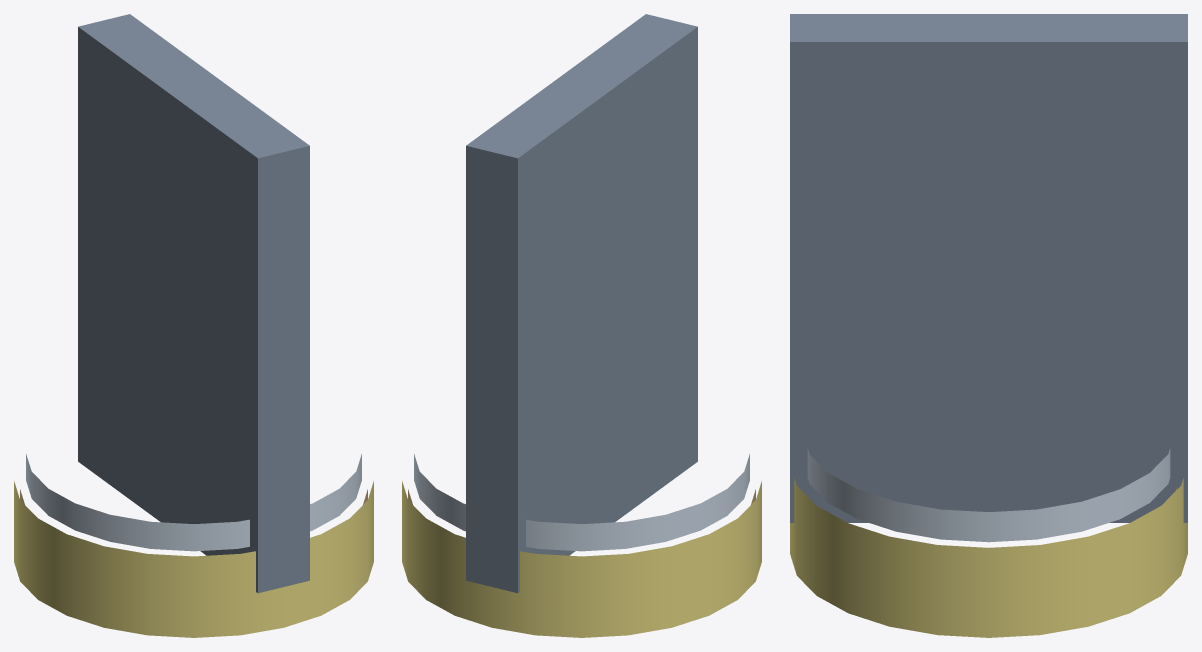
The model's file is soil_consolidation_oedometer_settlement.glb.
The picture shows the model from 3 angles, left to right: view 1: azimuth 30°, elevation 25°; view 2: azimuth 150°, elevation 25°; view 3: azimuth 270°, elevation 25°; orthographic projection. The views are drawn at different scales.
Parts seen in each view (by area): view 1: ConsolidationLeverLoadingArmFrame, BrassOedometerConsolidationRing, UpperPorousStoneLoadingCap; view 2: ConsolidationLeverLoadingArmFrame, BrassOedometerConsolidationRing, UpperPorousStoneLoadingCap; view 3: ConsolidationLeverLoadingArmFrame, BrassOedometerConsolidationRing, UpperPorousStoneLoadingCap.
Part boxes in pixels (bbox=[...]): ConsolidationLeverLoadingArmFrame: bbox=[78, 14, 309, 593]; BrassOedometerConsolidationRing: bbox=[14, 481, 373, 637]; UpperPorousStoneLoadingCap: bbox=[26, 454, 361, 551]; ConsolidationLeverLoadingArmFrame: bbox=[466, 14, 697, 593]; BrassOedometerConsolidationRing: bbox=[402, 481, 761, 637]; UpperPorousStoneLoadingCap: bbox=[414, 454, 749, 551]; ConsolidationLeverLoadingArmFrame: bbox=[790, 14, 1187, 522]; BrassOedometerConsolidationRing: bbox=[790, 478, 1187, 637]; UpperPorousStoneLoadingCap: bbox=[807, 448, 1170, 542].
Size of the model in its own units: 0.6 by 0.875 by 0.6.
